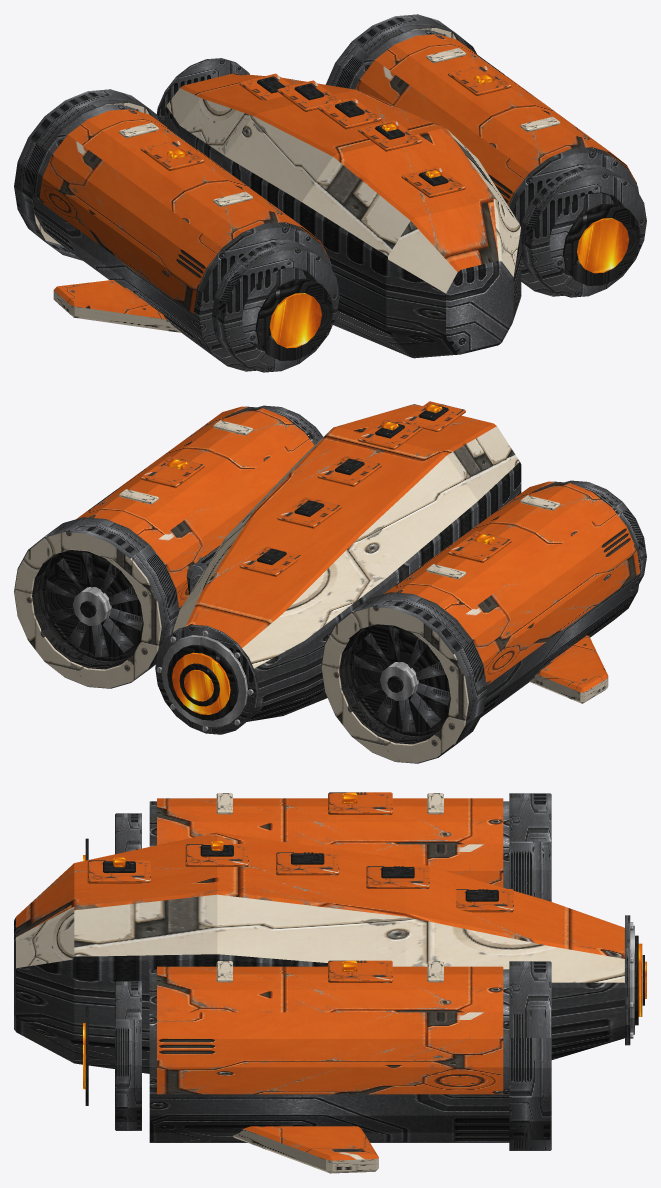
File: amber-firefly.glb
3 views of the same model, one above another, from view 1: azimuth 30°, elevation 25°; view 2: azimuth 150°, elevation 25°; view 3: azimuth 270°, elevation 25° (orthographic). The views are drawn at different scales.
Parts seen in each view (by area): view 1: Amber Firefly painted hull; view 2: Amber Firefly painted hull; view 3: Amber Firefly painted hull.
Part boxes in pixels (x1,y1,x2,y2): Amber Firefly painted hull: [14, 14, 646, 372]; Amber Firefly painted hull: [14, 401, 646, 763]; Amber Firefly painted hull: [14, 792, 646, 1173].
Bounding box in the file's own units: 4.62 × 1.57 × 4.2.
Materials: 6 (6 with a texture image).
